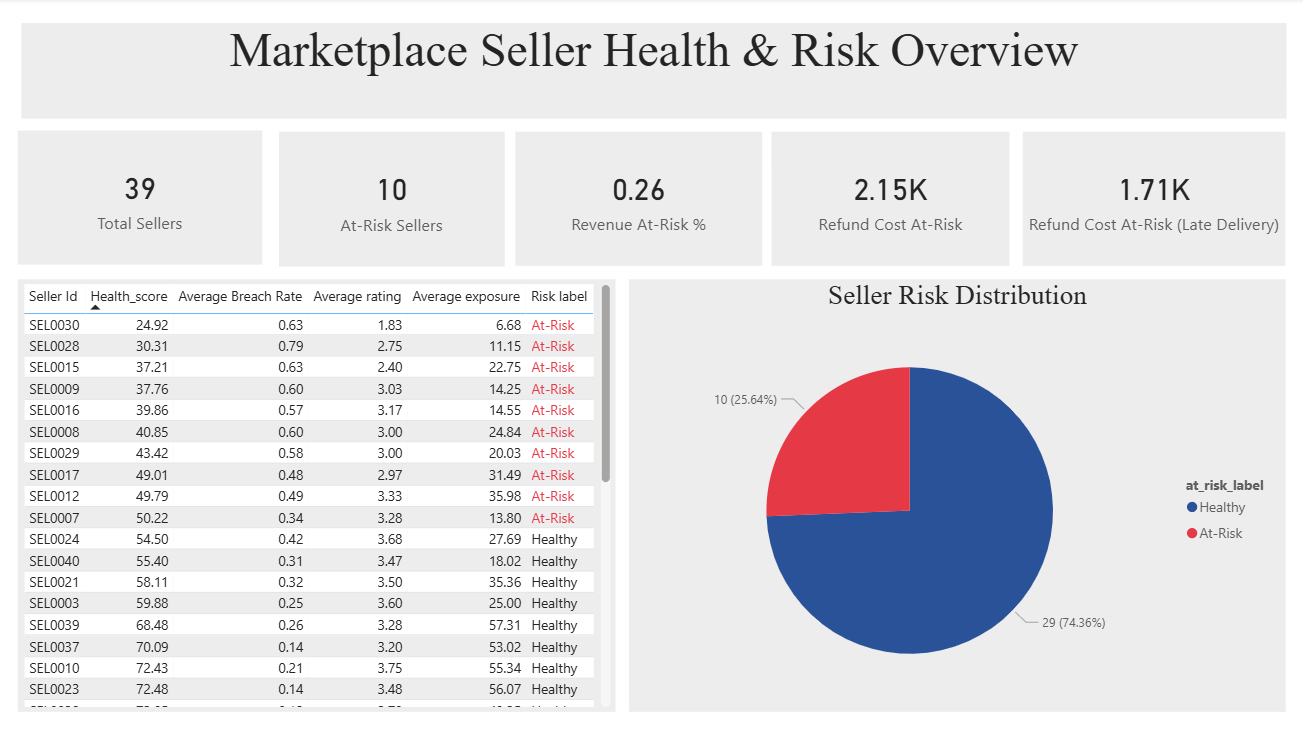

What the dashboard file says about the page in this screenshot:
{"tool":"powerbi","page":{"name":"Overview","canvas":[1280,720],"ordinal":0},"visuals":[{"type":"card","fields":{"Values":["seller_health_score.Total Sellers"]},"box":[18.9,129.8,239.4,131],"z":0},{"type":"textbox","title":"Marketplace Seller Health & Risk Overview","box":[21.4,23.9,1237.4,93.2],"z":1000},{"type":"card","fields":{"Values":["orders_clean.Revenue At-Risk %"]},"box":[505.3,131,241.9,131],"z":2000},{"type":"card","fields":{"Values":["returns_refunds_clean.Refund Cost At-Risk"]},"box":[756.1,131,233.1,131],"z":3000},{"type":"card","fields":{"Values":["seller_health_score.At-Risk Sellers"]},"box":[273.4,131,220.5,132.3],"z":4000},{"type":"card","fields":{"Values":["returns_refunds_clean.Refund Cost At-Risk (Late Delivery)"]},"box":[1001.8,131,257.1,131],"z":5000},{"type":"tableEx","fields":{"Values":["seller_health_score.seller_id","Avg(seller_health_score.health_score)","Avg(seller_health_score.avg_breach_rate)","Avg(seller_health_score.avg_rating)","Avg(seller_health_score.avg_exposure)","seller_health_score.at_risk_label"]},"box":[18.9,274.7,584.7,423.4],"z":6000},{"type":"pieChart","title":"Seller Risk Distribution","fields":{"Y":["CountNonNull(seller_health_score.seller_id)"],"Category":["seller_health_score.at_risk_label"]},"box":[616.2,274.7,642.6,423.4],"z":7000}]}

Visuals, with their boxes in screenshot pixels (x1, y1, x2, y2), scaled from the page's 1280x720 canvas onto the 1303x730 screenshot:
card - seller_health_score.Total Sellers: Rect(19, 132, 263, 264)
"Marketplace Seller Health & Risk Overview" textbox: Rect(22, 24, 1281, 119)
card - orders_clean.Revenue At-Risk %: Rect(514, 133, 761, 266)
card - returns_refunds_clean.Refund Cost At-Risk: Rect(770, 133, 1007, 266)
card - seller_health_score.At-Risk Sellers: Rect(278, 133, 503, 267)
card - returns_refunds_clean.Refund Cost At-Risk (Late Delivery): Rect(1020, 133, 1282, 266)
tableEx - seller_health_score.seller_id x Avg(seller_health_score.health_score): Rect(19, 279, 614, 708)
"Seller Risk Distribution" pieChart: Rect(627, 279, 1281, 708)
